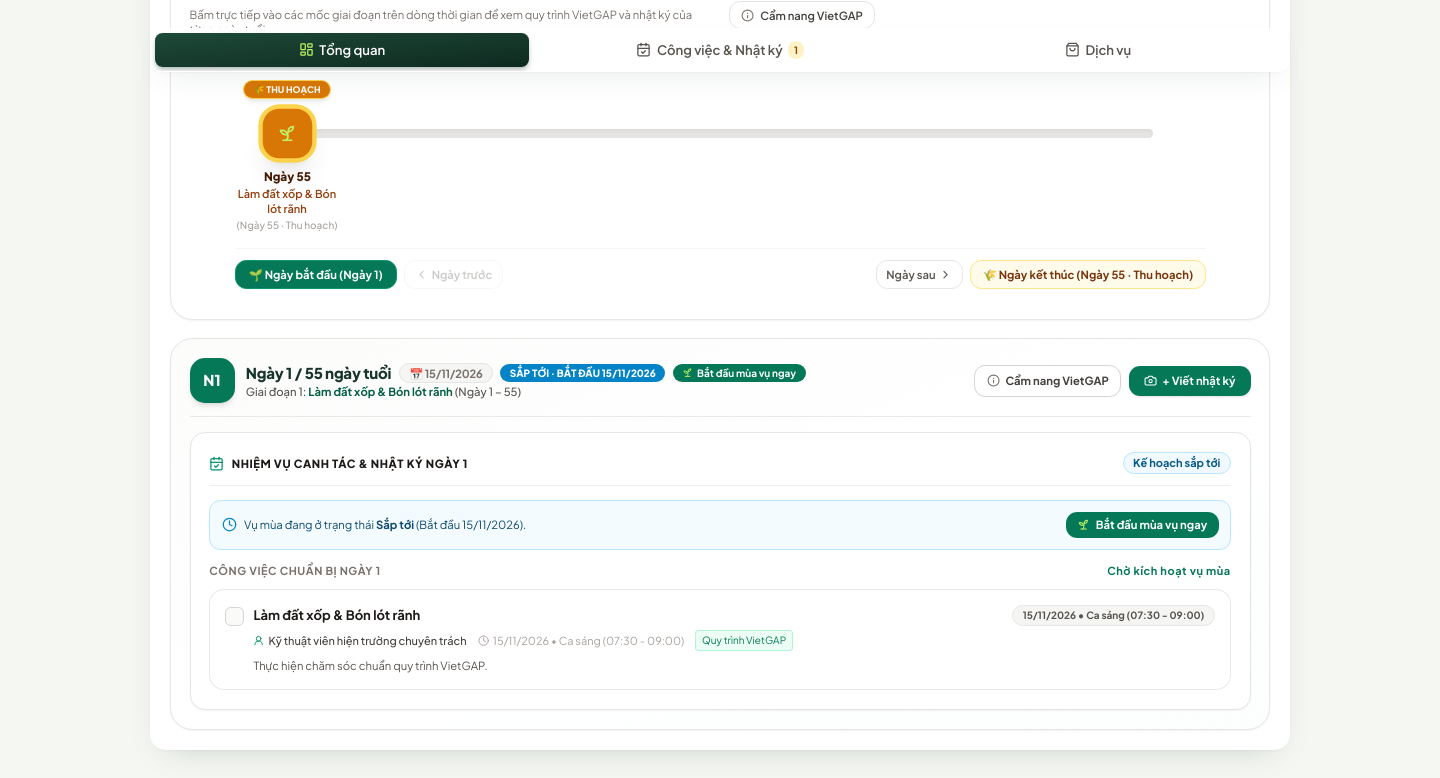
Test case: Assisted-Growing Split-Screen Demo, Upload-to-Done & Staff Notifications › keeps Assisted Day 1 care tasks incomplete until Staff uploads photo proof & confirms, and sends STAFF notification on START_NOW
Later steps or results of the test are not shown.
(page scrolled)
Click the 1st button "Bắt đầu mùa vụ ngay" at (739, 373), box [673,364,806,382]
(page scrolled)
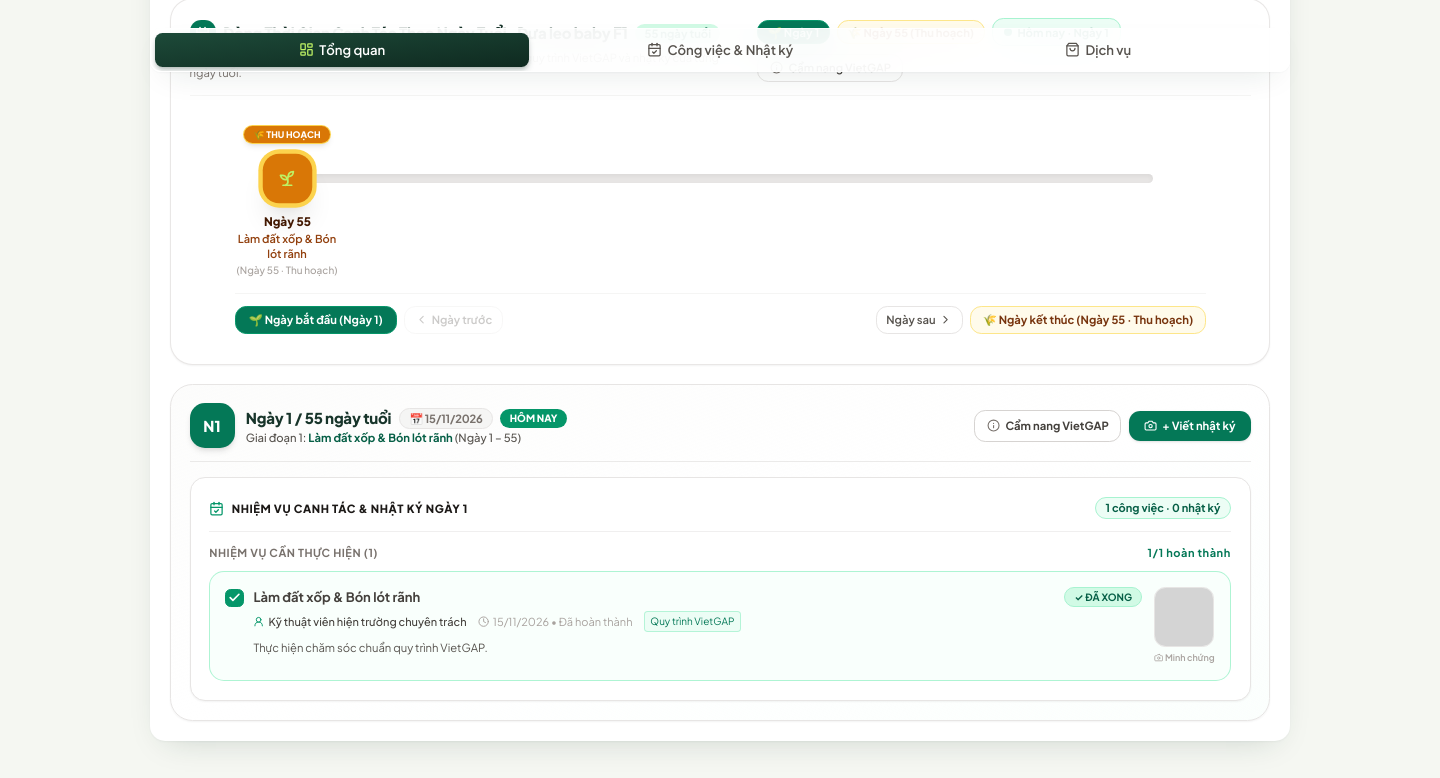
Expected: the text "Làm đất xốp & Bón lót rãnh" is shown, [234,231,340,262]
Now the text "✓ ĐÃ XONG" is shown, box [1064,587,1142,608]
